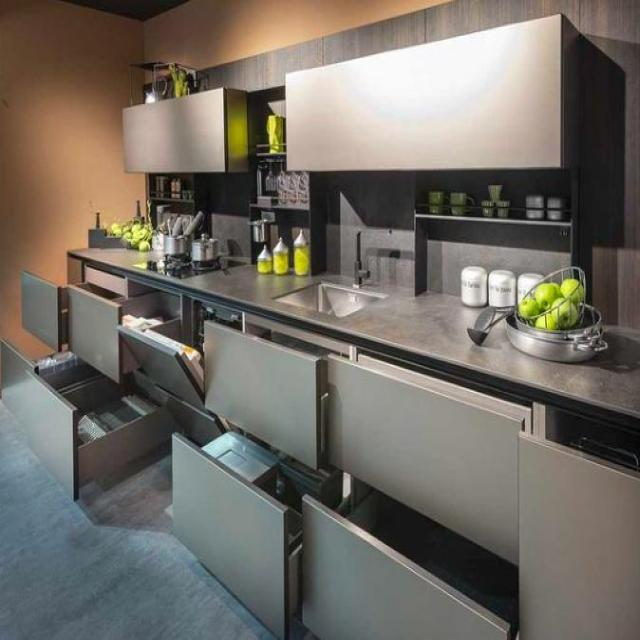dishwasher: (123, 279, 224, 442)
